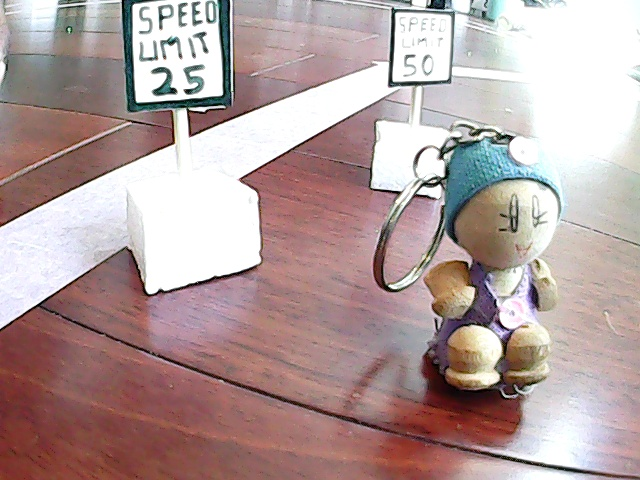pedestrain: (376, 121, 582, 413)
speed_25: (101, 1, 274, 284)
speed_50: (361, 5, 459, 204)
